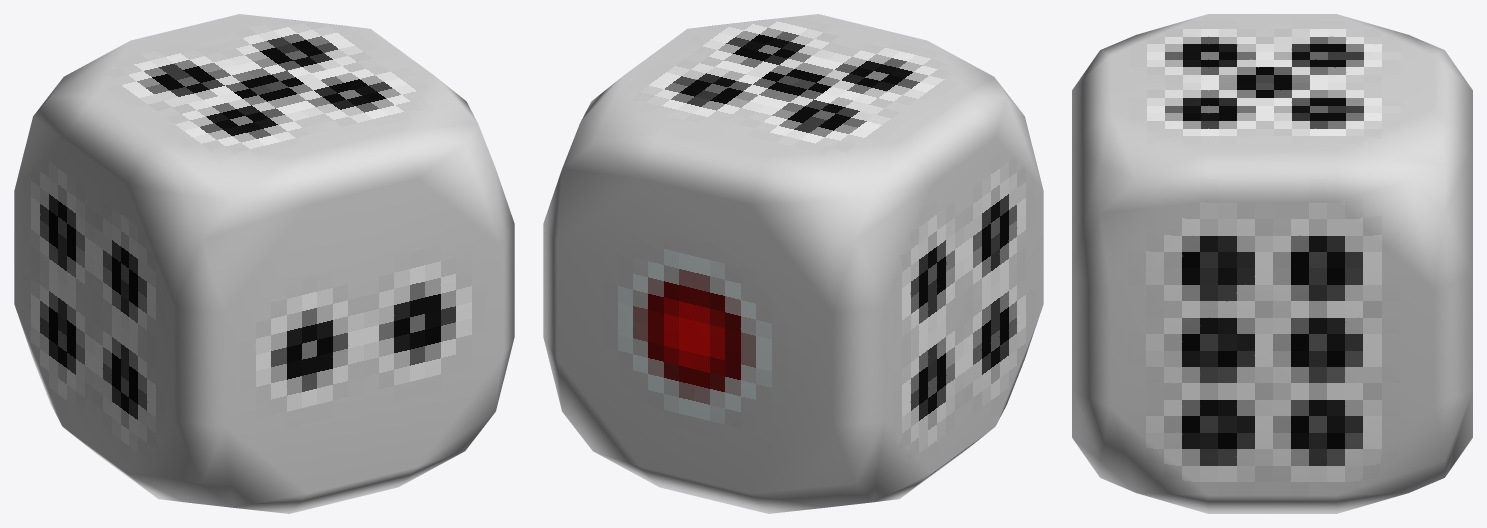
The model's file is touzi.fbx.
3 renders of one model, left to right at view 1: azimuth 30°, elevation 25°; view 2: azimuth 150°, elevation 25°; view 3: azimuth 270°, elevation 25°, orthographic.
Parts seen in each view (by area): view 1: touzi; view 2: touzi; view 3: touzi.
Part boxes in pixels (x1,y1,x2,y2): touzi: (14,14,514,513); touzi: (543,14,1043,513); touzi: (1072,14,1472,513).
Size of the model in its own units: 0.0214 by 0.0214 by 0.0214.
